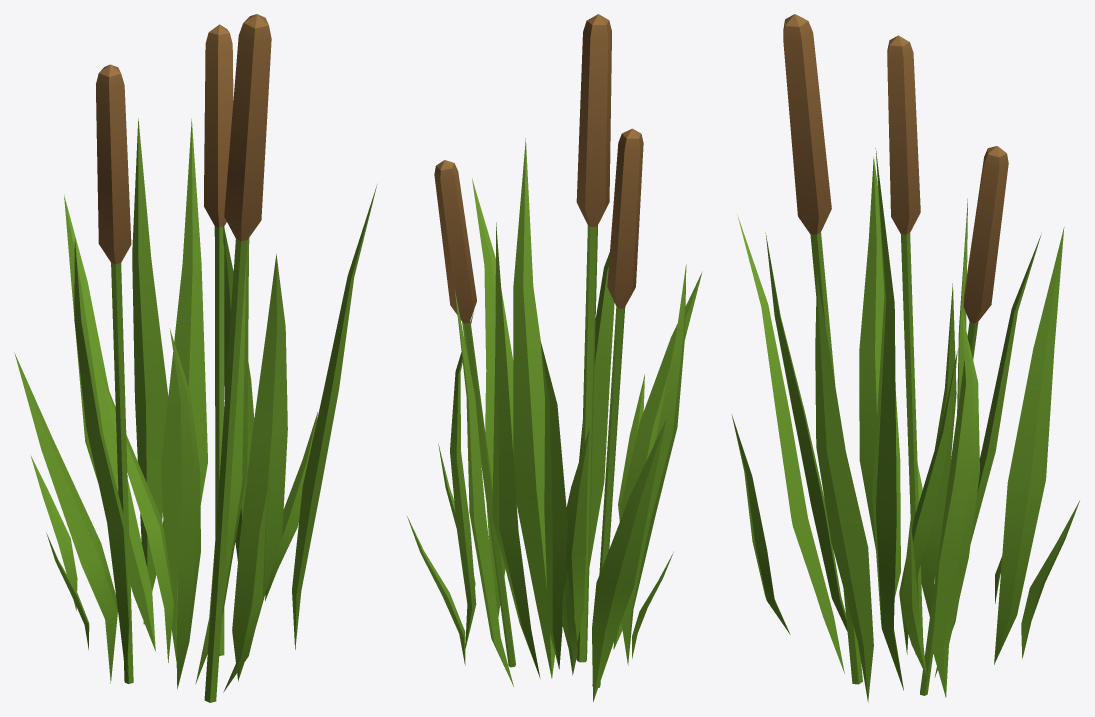
The model's file is Grass_03_B.fbx.
3 renders of one model, left to right at view 1: azimuth 30°, elevation 25°; view 2: azimuth 150°, elevation 25°; view 3: azimuth 270°, elevation 25°, orthographic. The views are drawn at different scales.
Visible parts, largest first — view 1: Grass_03_B; view 2: Grass_03_B; view 3: Grass_03_B.
Part boxes in pixels (x1,y1,x2,y2): Grass_03_B: (14,14,377,702); Grass_03_B: (407,14,702,702); Grass_03_B: (731,14,1079,702).
Size of the model in its own units: 50.8 by 118 by 55.02.
